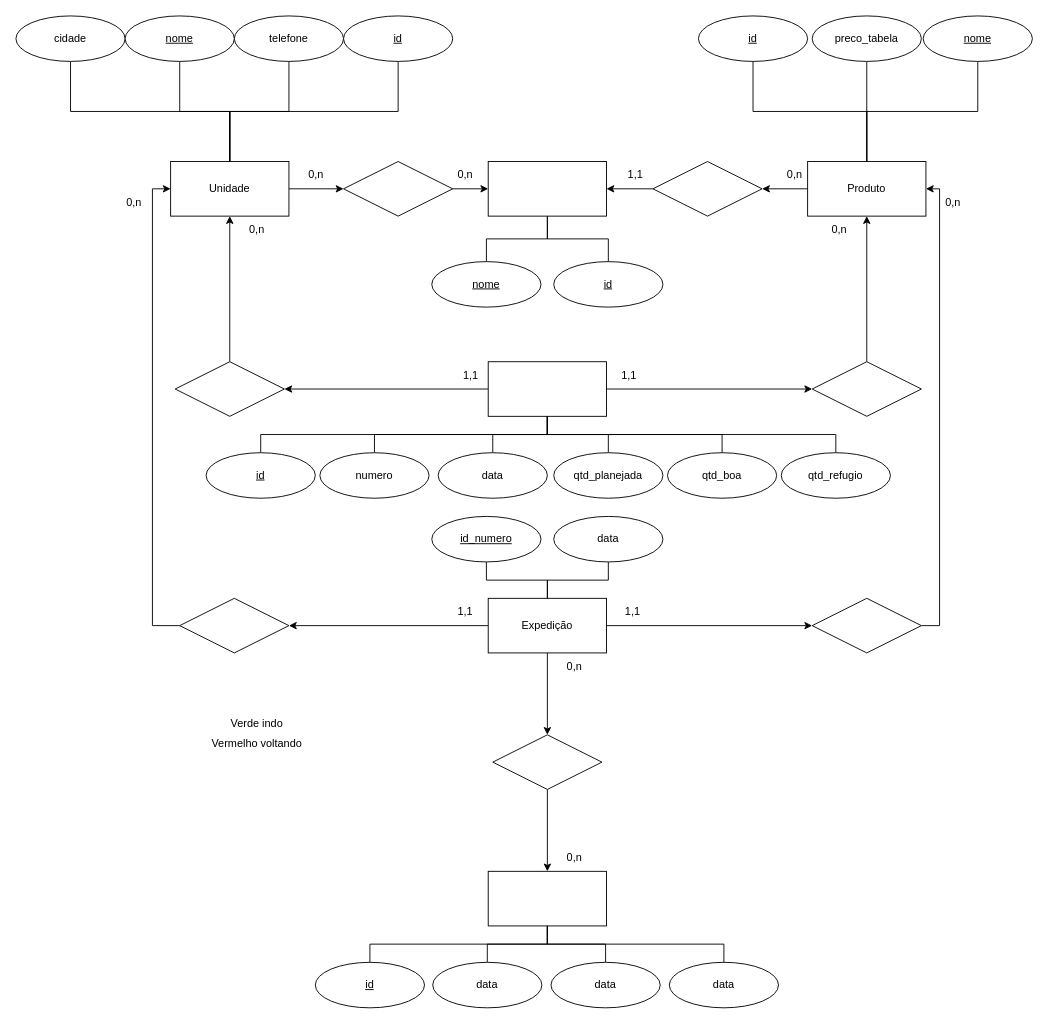
Some shapes in this 1048 by 1024 pixel diagram are drawn without their labels. Each missing label, with the box of its shape:
Cliente: (487, 870, 607, 926)
estoca: (343, 161, 453, 216)
fabricam: (811, 361, 921, 416)
leva: (811, 597, 921, 653)
Ordem de produção: (487, 361, 607, 416)
pertence: (174, 361, 284, 416)
Resina: (487, 161, 607, 216)
sai de: (179, 597, 289, 653)
usa: (652, 161, 762, 216)
vai para: (492, 734, 602, 789)
